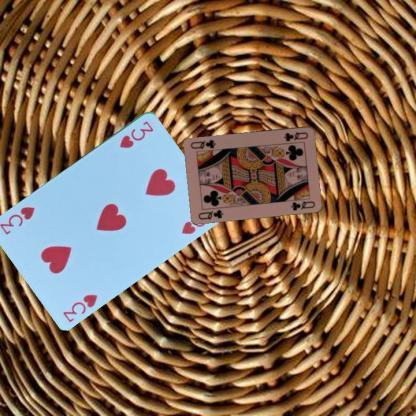3h: (60, 291, 100, 324), (116, 118, 156, 149)
Qc: (196, 207, 225, 221), (281, 130, 309, 142)
